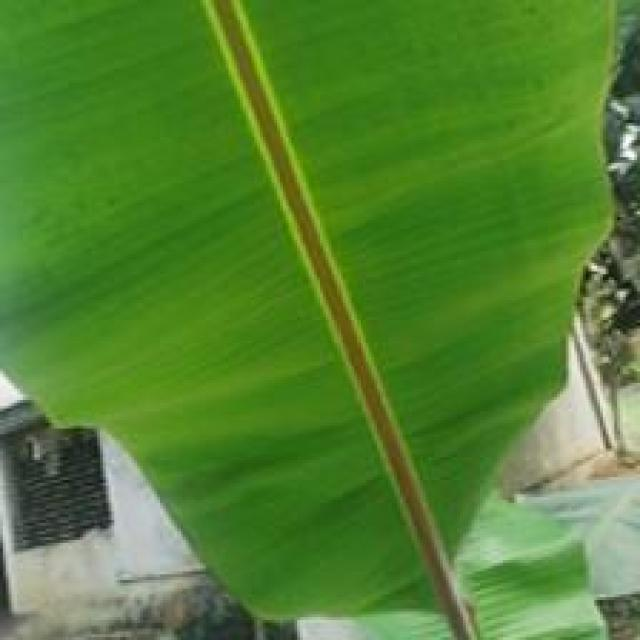Black_leaf_spot: (0, 0, 607, 622)
